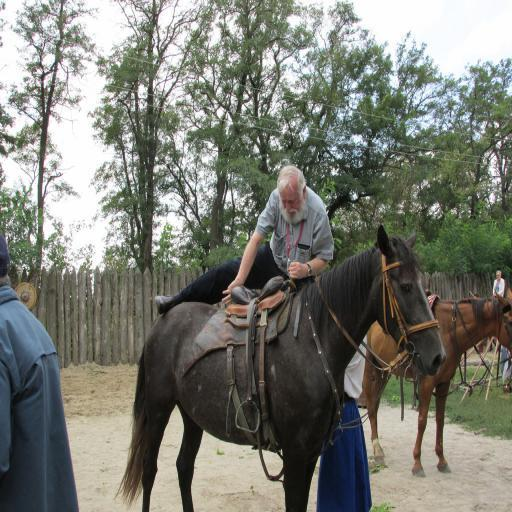horse: (116, 225, 446, 512), (363, 289, 511, 478)
